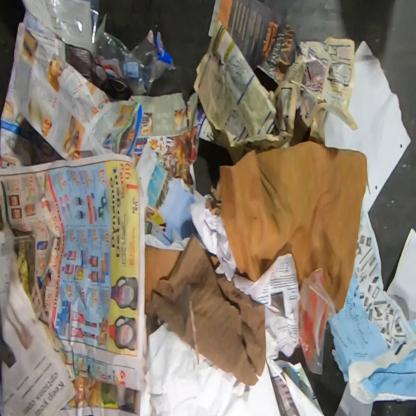cardboard: (207, 140, 368, 312), (145, 244, 180, 305)
rigid_plastic: (298, 263, 338, 375)
soft_plastic: (20, 0, 176, 97)
